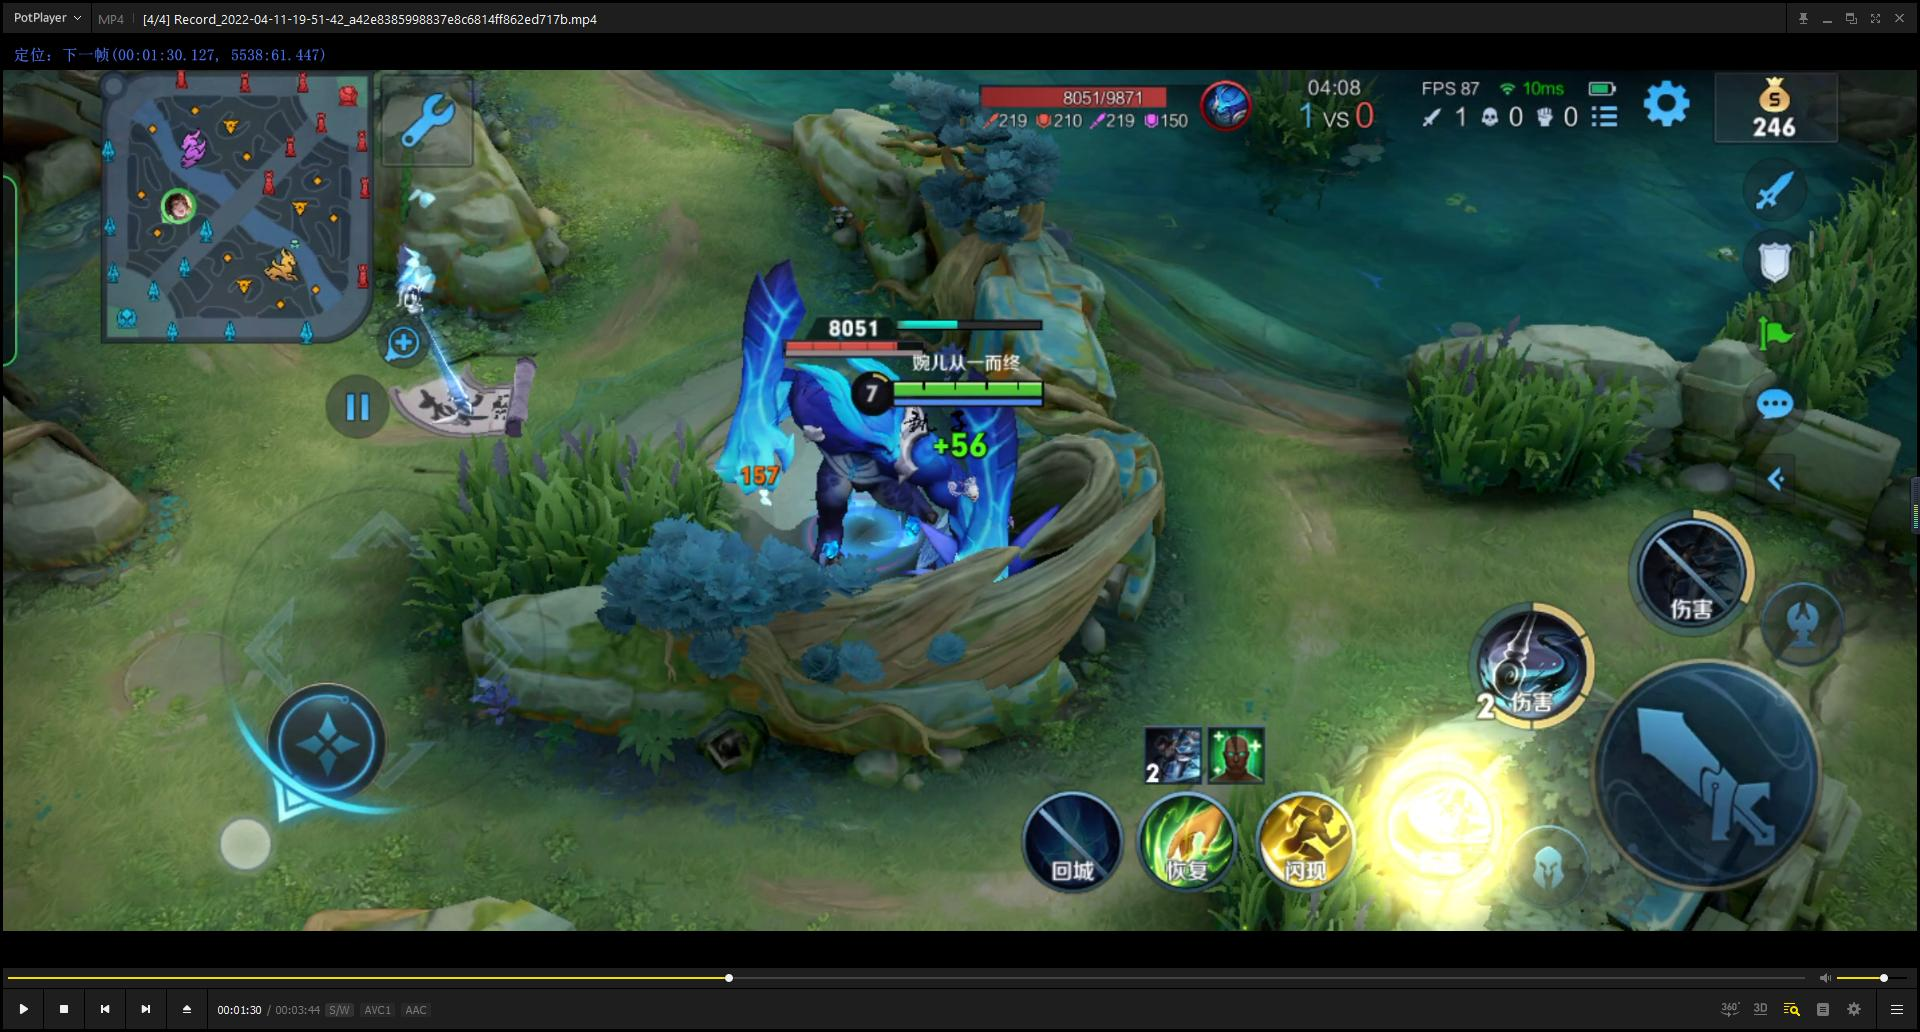Buff: (673, 261, 1036, 588)
